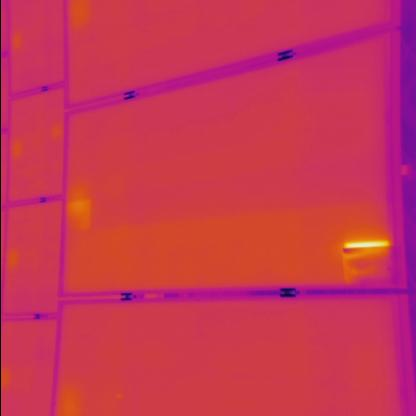hotspot: (338, 236, 396, 288)
